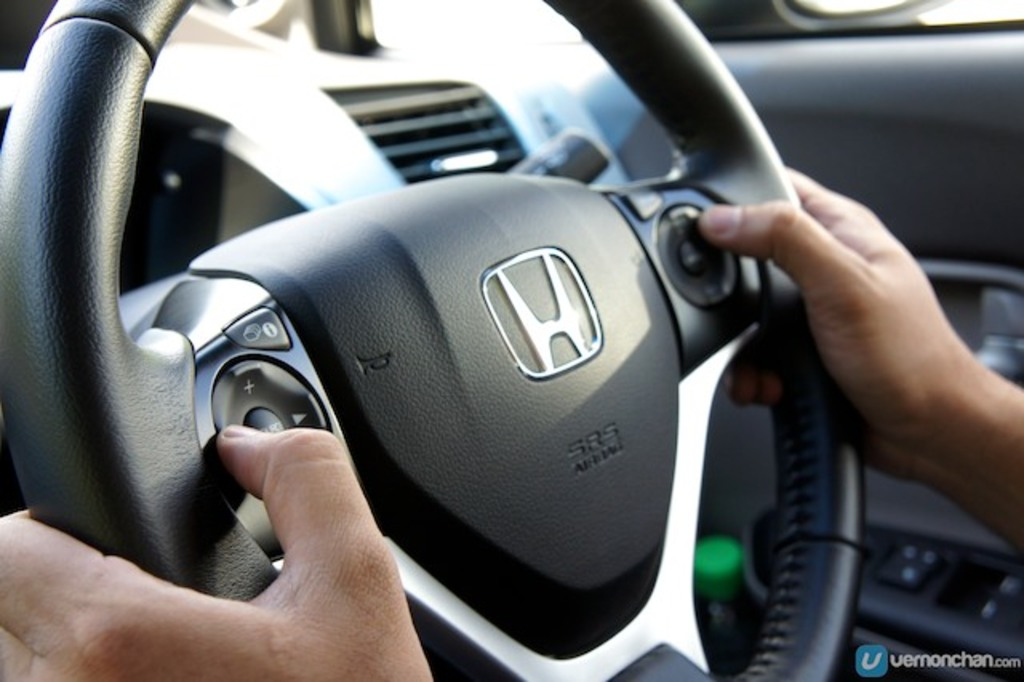Car: (0, 0, 1022, 680)
